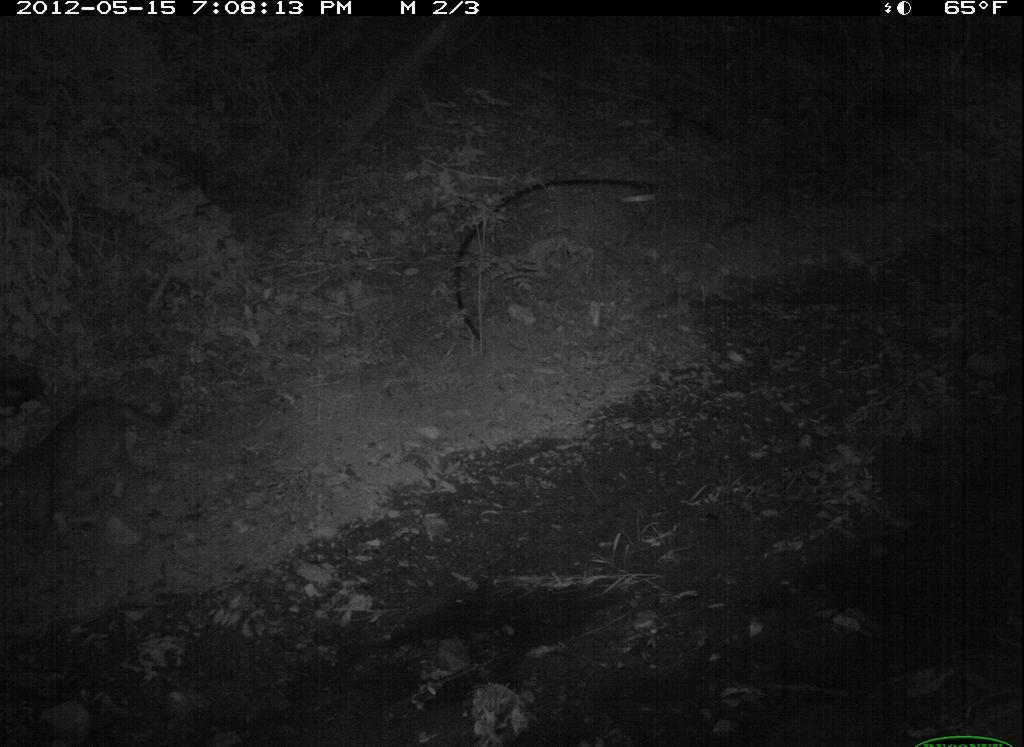cat: (1, 373, 190, 560)
